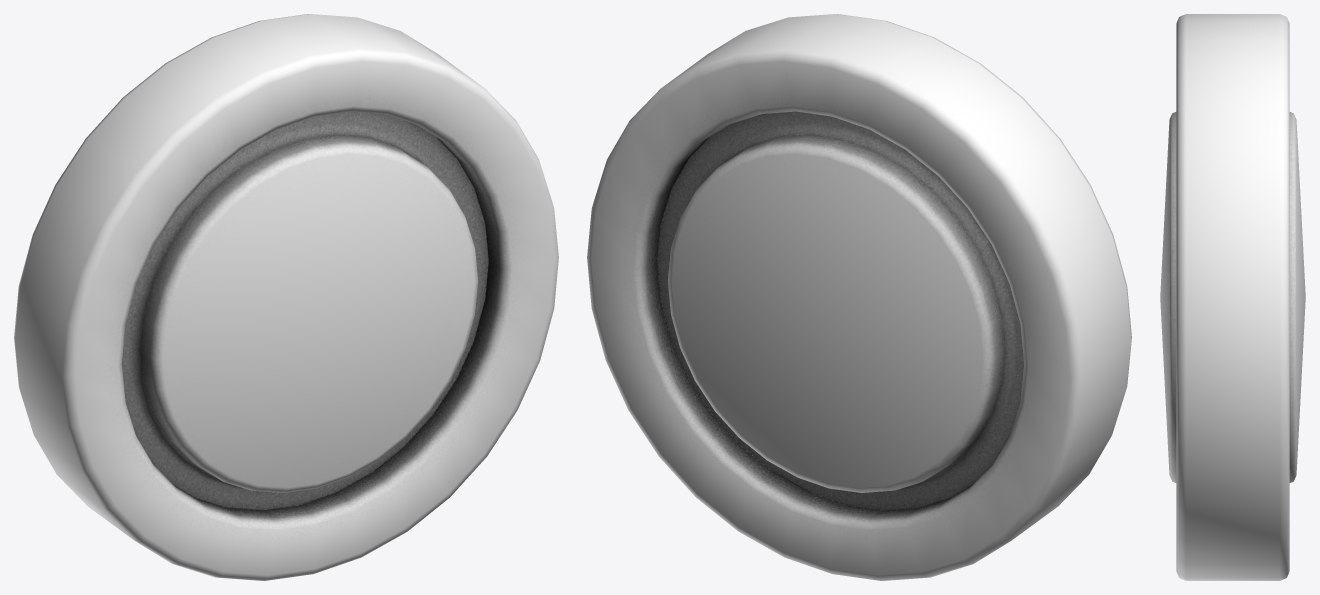
File: coin.glb
The picture shows the model from 3 angles, left to right: view 1: azimuth 30°, elevation 25°; view 2: azimuth 150°, elevation 25°; view 3: azimuth 270°, elevation 25°; orthographic projection.
Parts seen in each view (by area): view 1: coin; view 2: coin; view 3: coin.
Part boxes in pixels (bbox=[...]): coin: bbox=[14, 14, 558, 580]; coin: bbox=[587, 14, 1131, 580]; coin: bbox=[1160, 14, 1305, 580].
Bounding box in the file's own units: 0.6 × 0.6 × 0.1539.
1 material, 1 textured.
